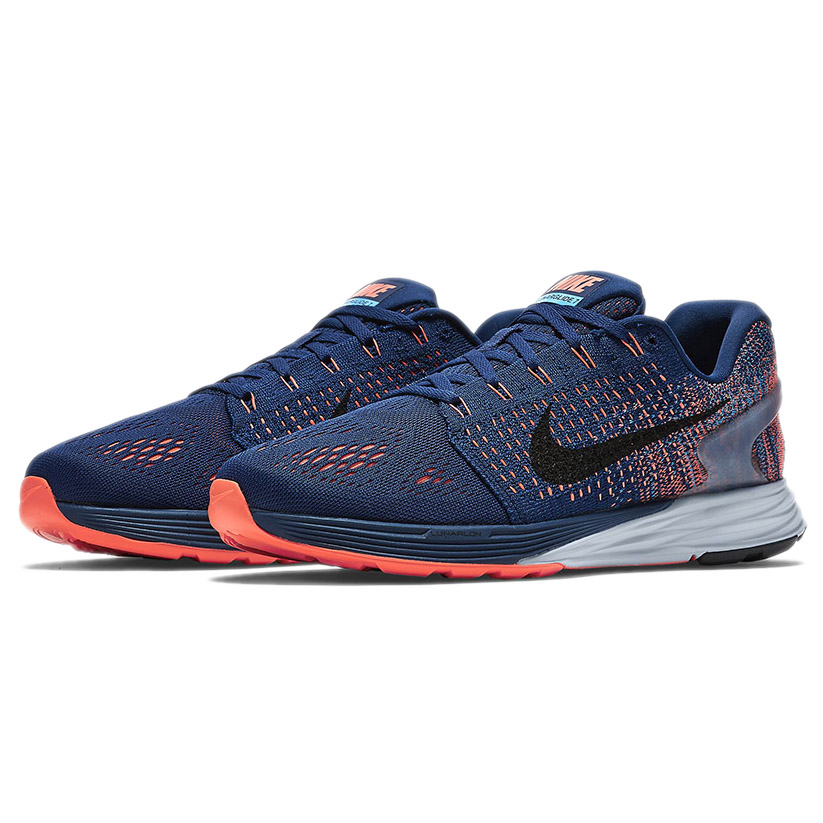Nike: (528, 391, 733, 488)
